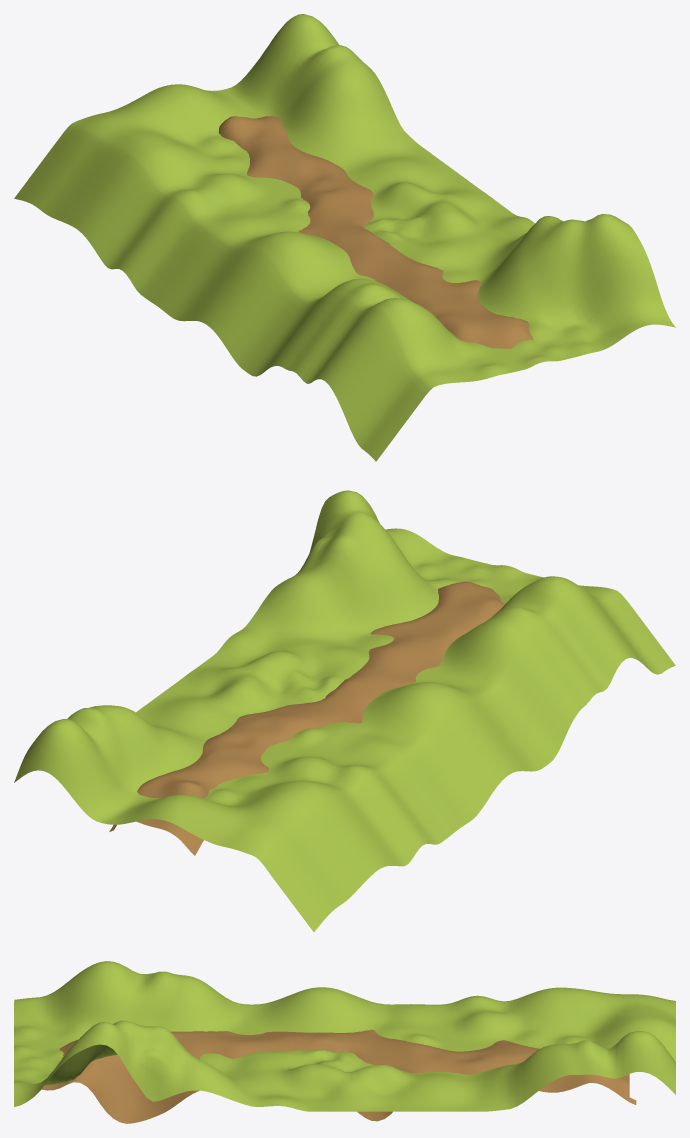
File: terrainTuto.fbx
3 renders of one model, top to bottom at view 1: azimuth 30°, elevation 25°; view 2: azimuth 150°, elevation 25°; view 3: azimuth 270°, elevation 25°, orthographic. The views are drawn at different scales.
Visible parts, largest first — view 1: terrain, chemin; view 2: terrain, chemin; view 3: terrain, chemin.
Boxes of the visible parts, left/top/right/bottom form: terrain: left=14, top=14, right=675, bottom=461; chemin: left=218, top=116, right=533, bottom=348; terrain: left=14, top=490, right=675, bottom=931; chemin: left=109, top=581, right=505, bottom=855; terrain: left=14, top=961, right=675, bottom=1111; chemin: left=41, top=1029, right=636, bottom=1123.
Size of the model in its own units: 37.31 by 17.53 by 78.04.
